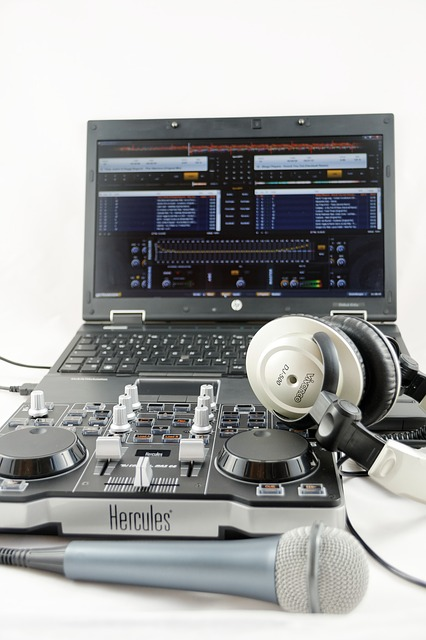headphones: (245, 315, 426, 505)
